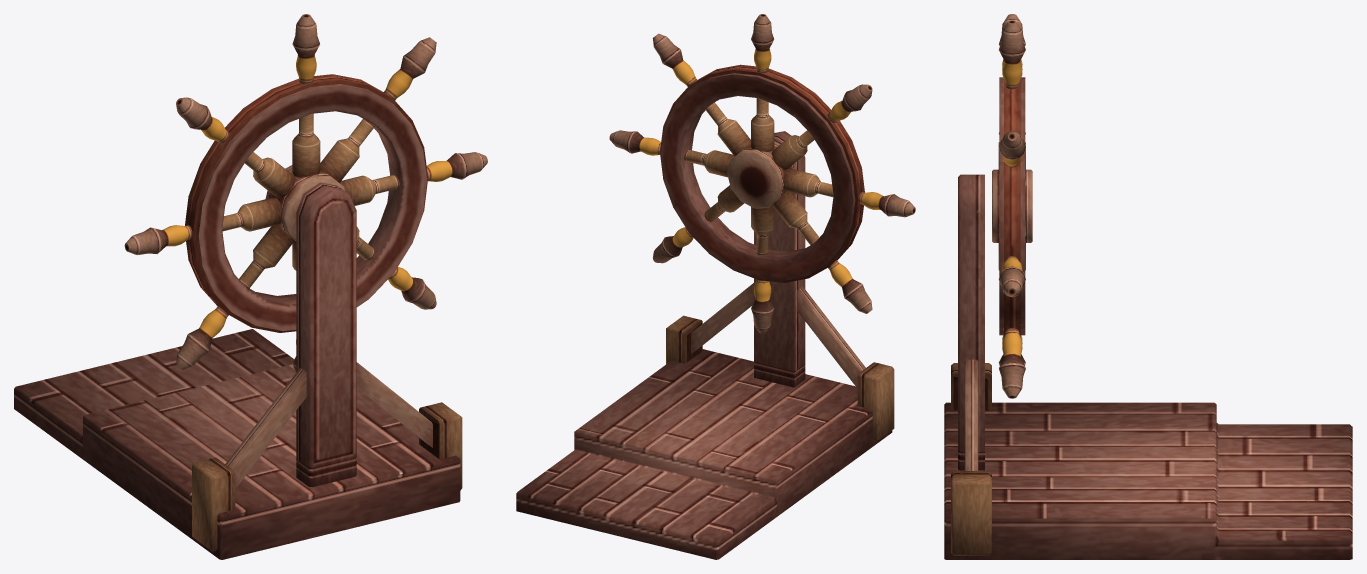
The model's file is Helm.fbx.
3 renders of one model, left to right at view 1: azimuth 30°, elevation 25°; view 2: azimuth 150°, elevation 25°; view 3: azimuth 270°, elevation 25°, orthographic. The views are drawn at different scales.
Parts seen in each view (by area): view 1: Helm; view 2: Helm; view 3: Helm.
Boxes of the visible parts, bbox=[...] form: Helm: bbox=[14, 14, 487, 559]; Helm: bbox=[516, 14, 915, 559]; Helm: bbox=[944, 14, 1352, 559].
Size of the model in its own units: 597 by 778 by 600.
